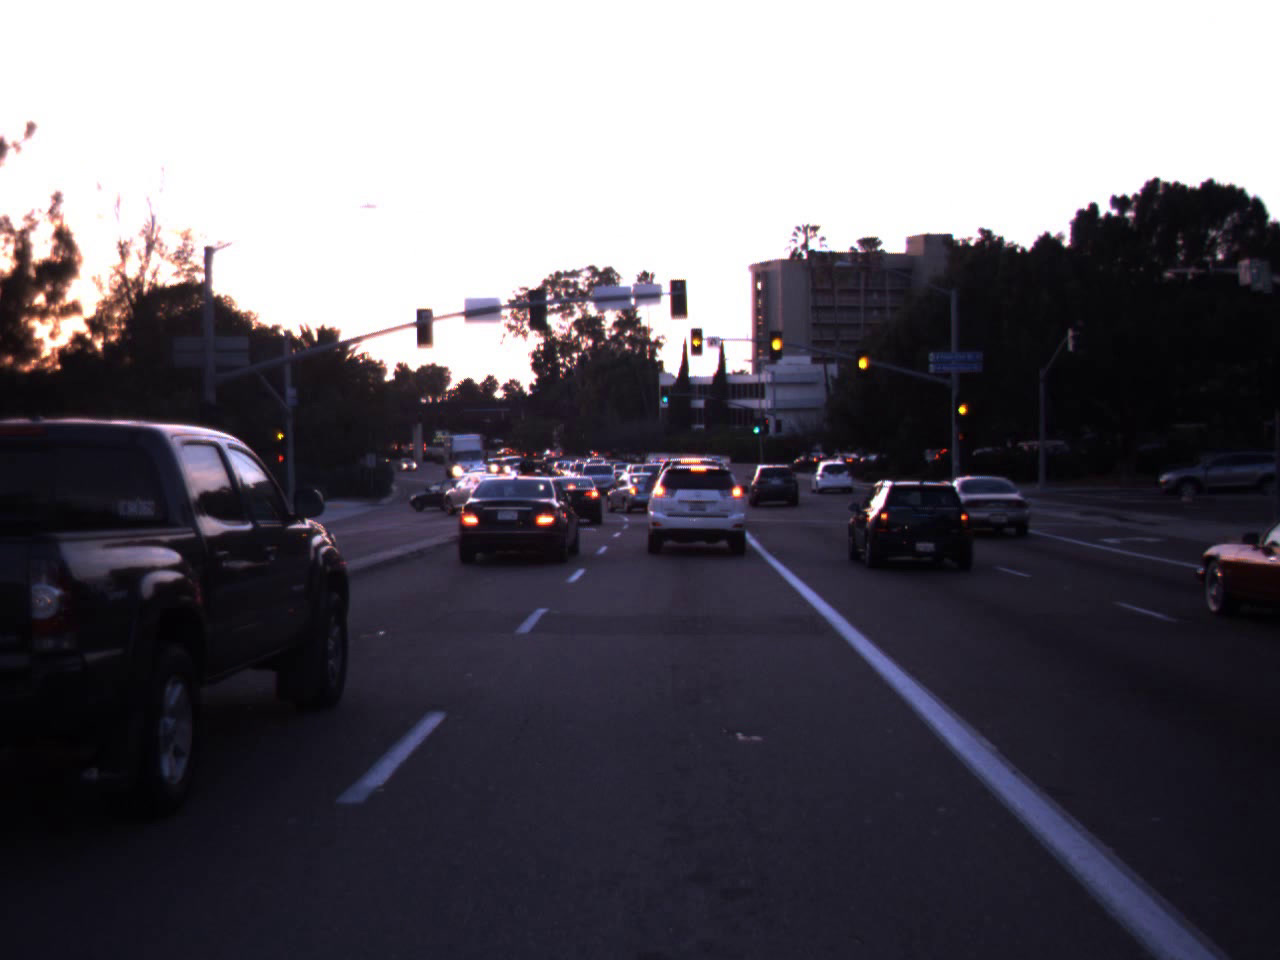go: (660, 378, 672, 403), (749, 413, 764, 433)
warning: (763, 317, 790, 366), (265, 411, 295, 456), (682, 319, 712, 359), (851, 338, 875, 383), (952, 393, 973, 424)
